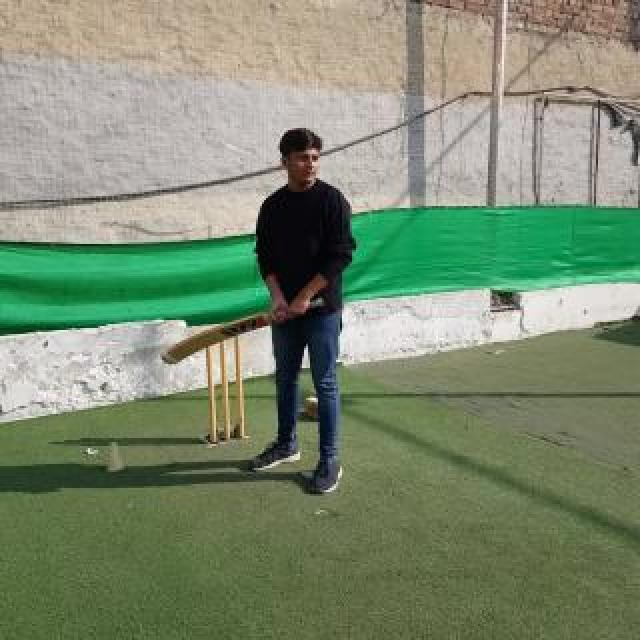bat: (162, 298, 324, 364)
